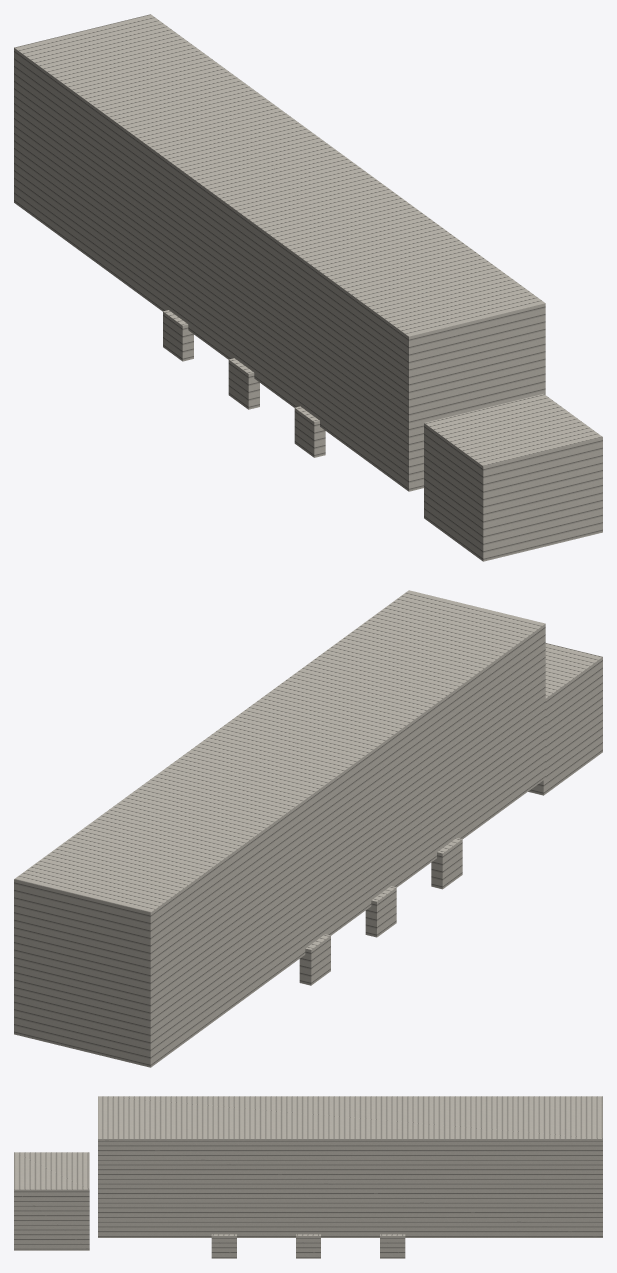
Rendered from vehicle_semi_tractor_trailer.glb.
3 views of the same model, one above another, from view 1: azimuth 30°, elevation 25°; view 2: azimuth 150°, elevation 25°; view 3: azimuth 270°, elevation 25° (orthographic). The views are drawn at different scales.
Parts seen in each view (by area): view 1: vehicle_semi_tractor_trailer-col; view 2: vehicle_semi_tractor_trailer-col; view 3: vehicle_semi_tractor_trailer-col.
Part boxes in pixels (<box>): vehicle_semi_tractor_trailer-col: <box>14,14,602,561</box>; vehicle_semi_tractor_trailer-col: <box>14,590,602,1067</box>; vehicle_semi_tractor_trailer-col: <box>14,1096,602,1258</box>.
Size of the model in its own units: 2.6 by 3.1 by 14.
Materials: 1 (1 with a texture image).
